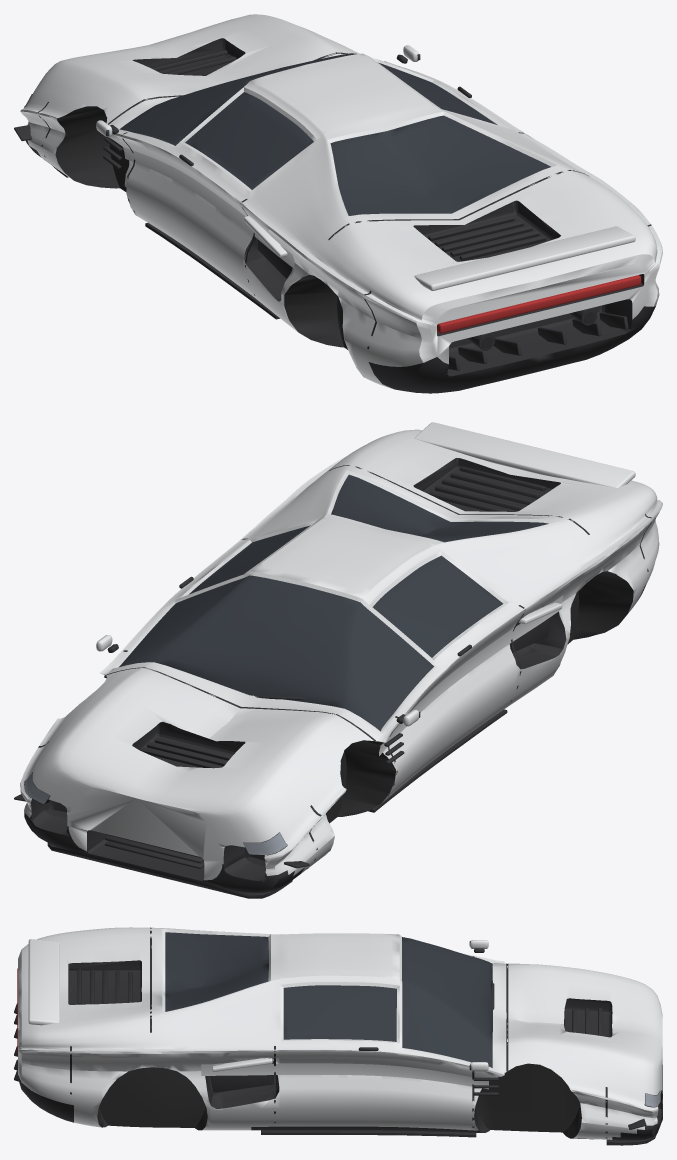
Rendered from exo_super_coupe.glb.
The picture shows the model from 3 angles, top to bottom: view 1: azimuth 30°, elevation 25°; view 2: azimuth 150°, elevation 25°; view 3: azimuth 270°, elevation 25°; orthographic projection. The views are drawn at different scales.
Parts seen in each view (by area): view 1: exo_super_coupe; view 2: exo_super_coupe; view 3: exo_super_coupe.
Part boxes in pixels (bbox=[...]): exo_super_coupe: bbox=[14, 14, 662, 393]; exo_super_coupe: bbox=[14, 422, 662, 898]; exo_super_coupe: bbox=[14, 927, 662, 1145].
Bounding box in the file's own units: 2.09 × 1.15 × 4.58.
